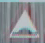Speed Breaker ahead: (2, 6, 44, 41)
